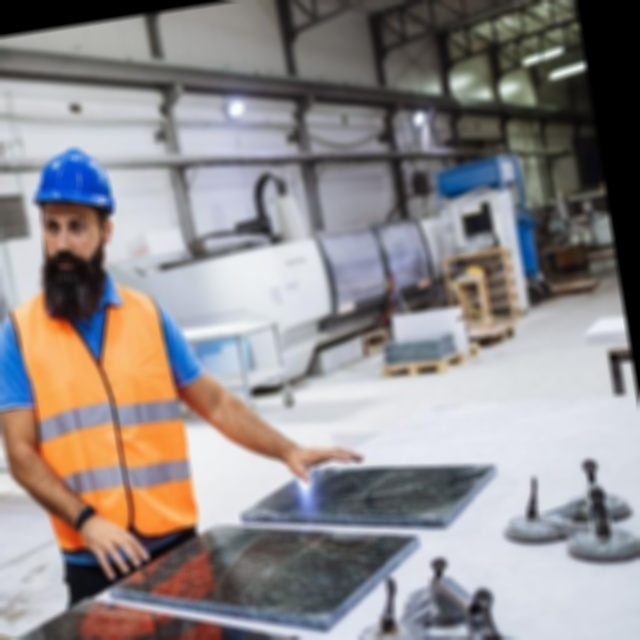Con_Casco: (22, 142, 128, 288)
Con_Chaleco: (12, 272, 202, 563)
